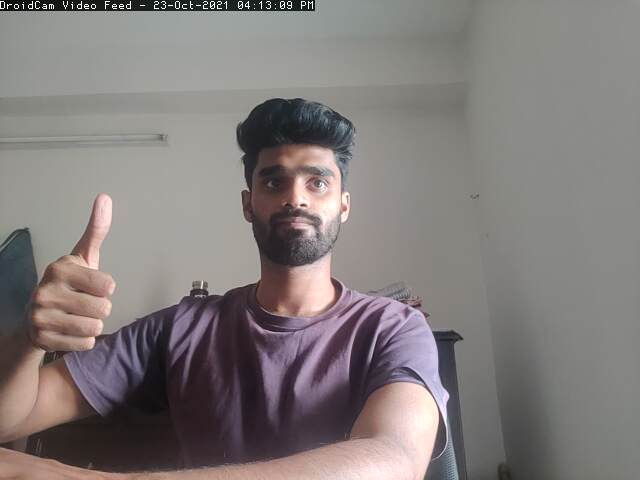ThumbsUp: (24, 189, 112, 352)
